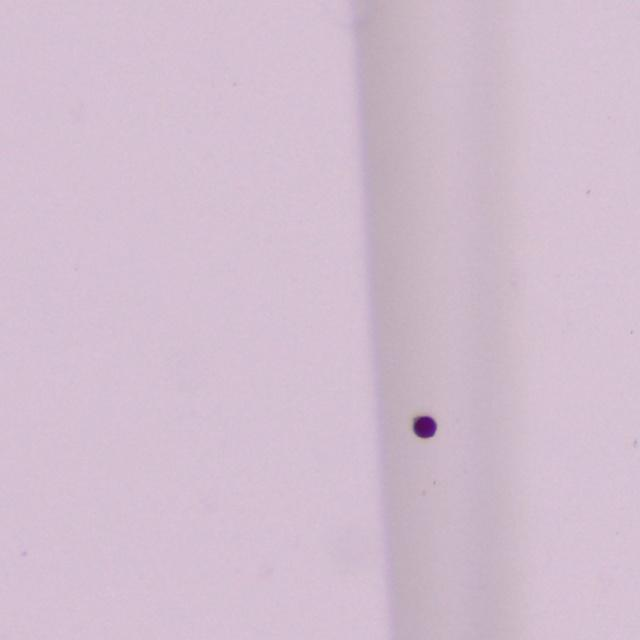viable: (413, 416, 436, 438)
